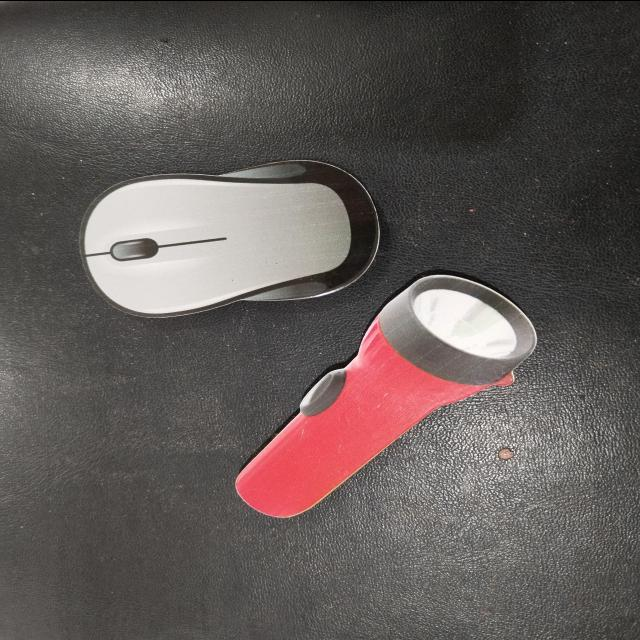Other Objects: (211, 256, 565, 556), (66, 151, 392, 324)
